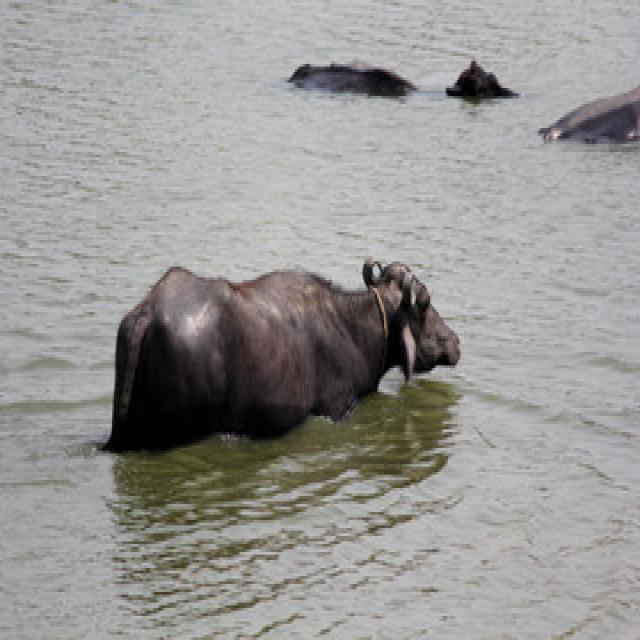Buffalo: (104, 243, 465, 446)
